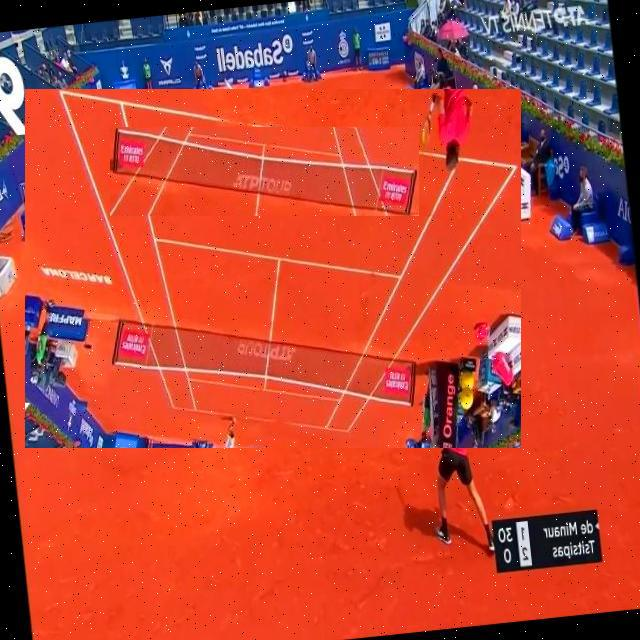court: (25, 89, 521, 448)
net: (110, 128, 419, 218)
player: (417, 360, 495, 558)
